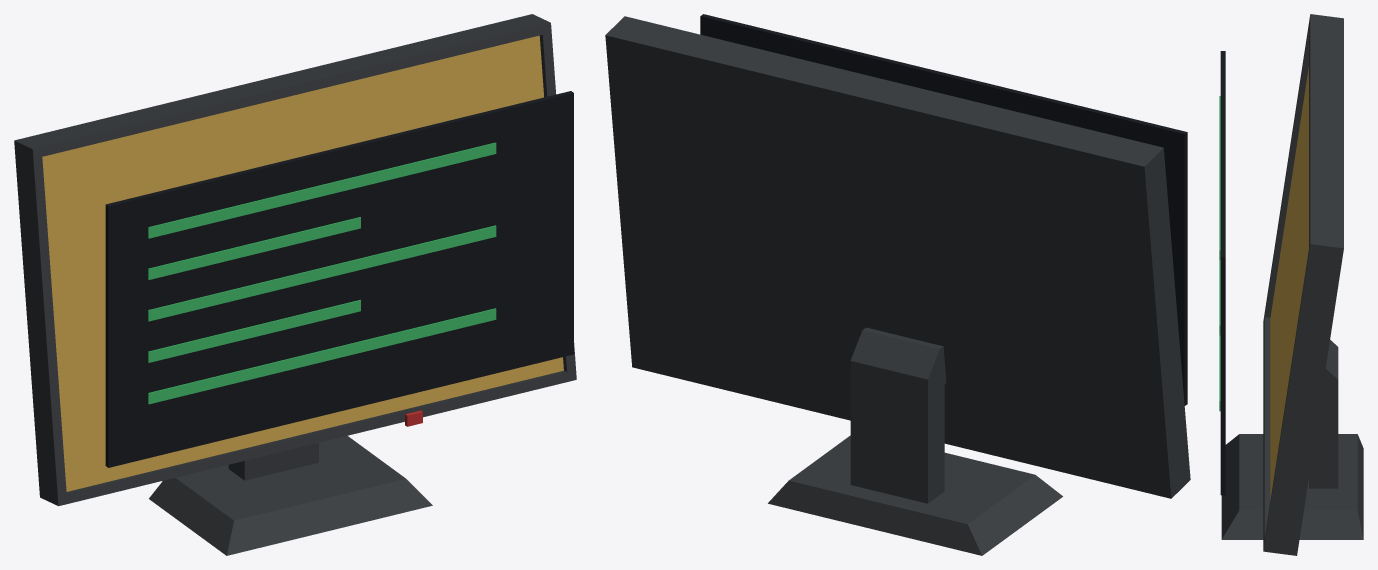
The model's file is computerScreen.glb.
3 renders of one model, left to right at view 1: azimuth 30°, elevation 25°; view 2: azimuth 150°, elevation 25°; view 3: azimuth 270°, elevation 25°, orthographic. The views are drawn at different scales.
Parts seen in each view (by area): view 1: computerScreen(Clone); view 2: computerScreen(Clone); view 3: computerScreen(Clone).
Boxes of the visible parts, x1,y1,x2,y2 form: computerScreen(Clone): (14,14,576,555); computerScreen(Clone): (605,14,1190,555); computerScreen(Clone): (1219,14,1363,555).
Size of the model in its own units: 0.3927 by 0.2943 by 0.104.
